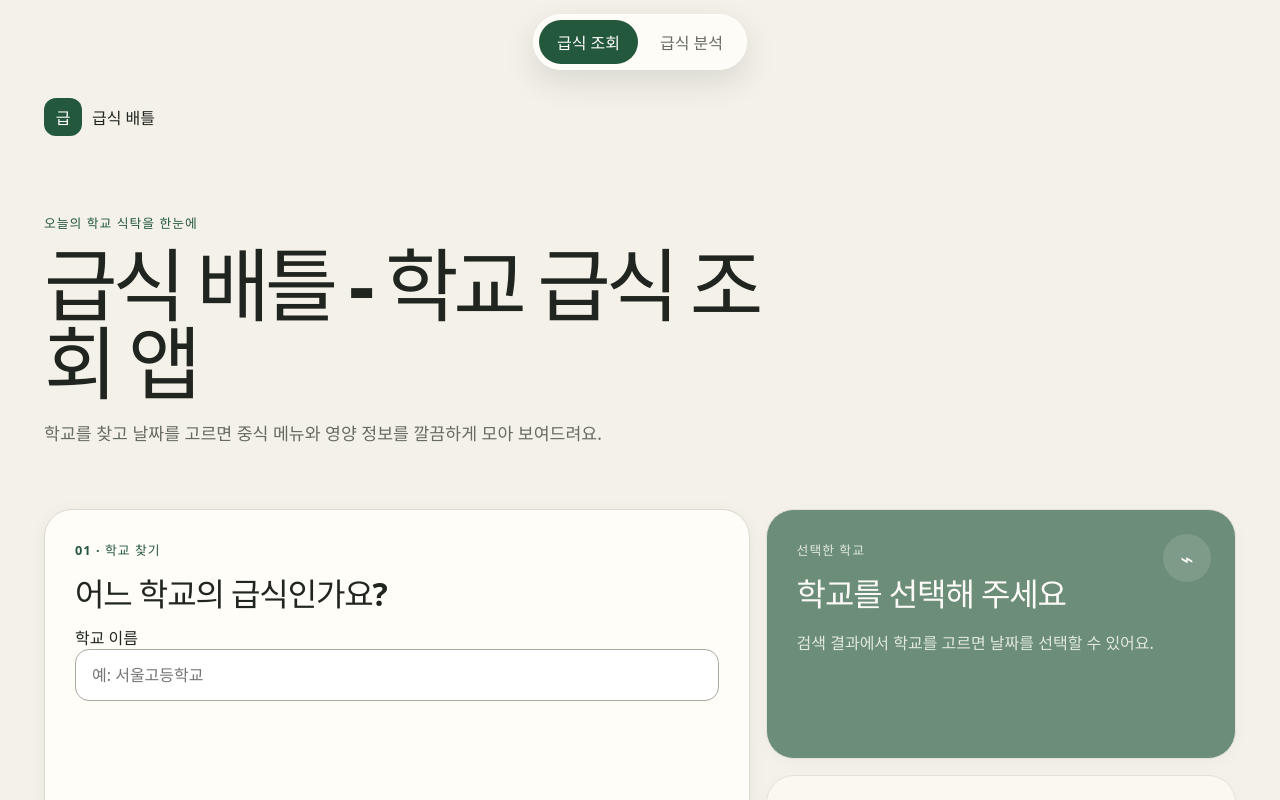
Scenario: school lunch flow › does not send a search shorter than two trimmed characters
The image size is (1280, 800).
Type " 가 " into the field labelled "학교 이름" at [397, 675], box left=75, top=649, right=719, bottom=701
Wait 400 ms
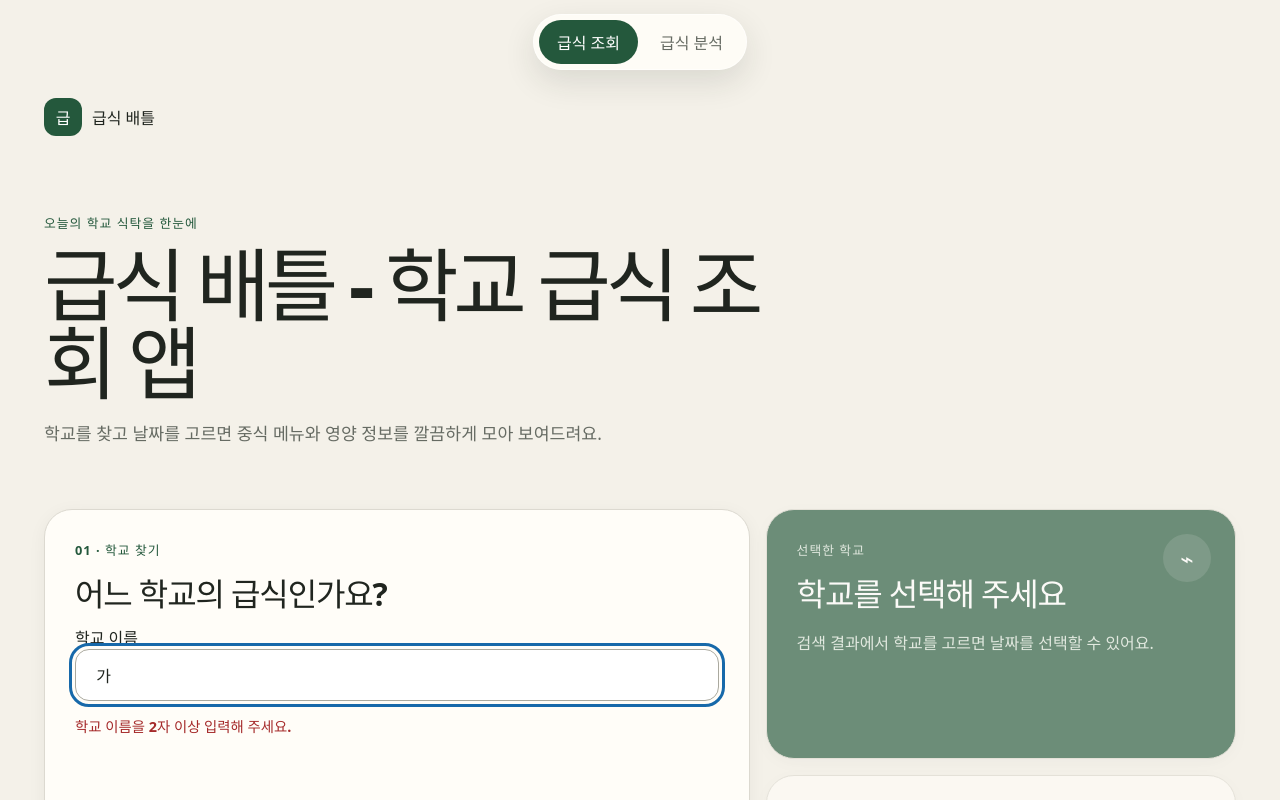
Expected: the text "학교 이름을 2자 이상 입력해 주세요." is shown, left=75, top=717, right=291, bottom=736
